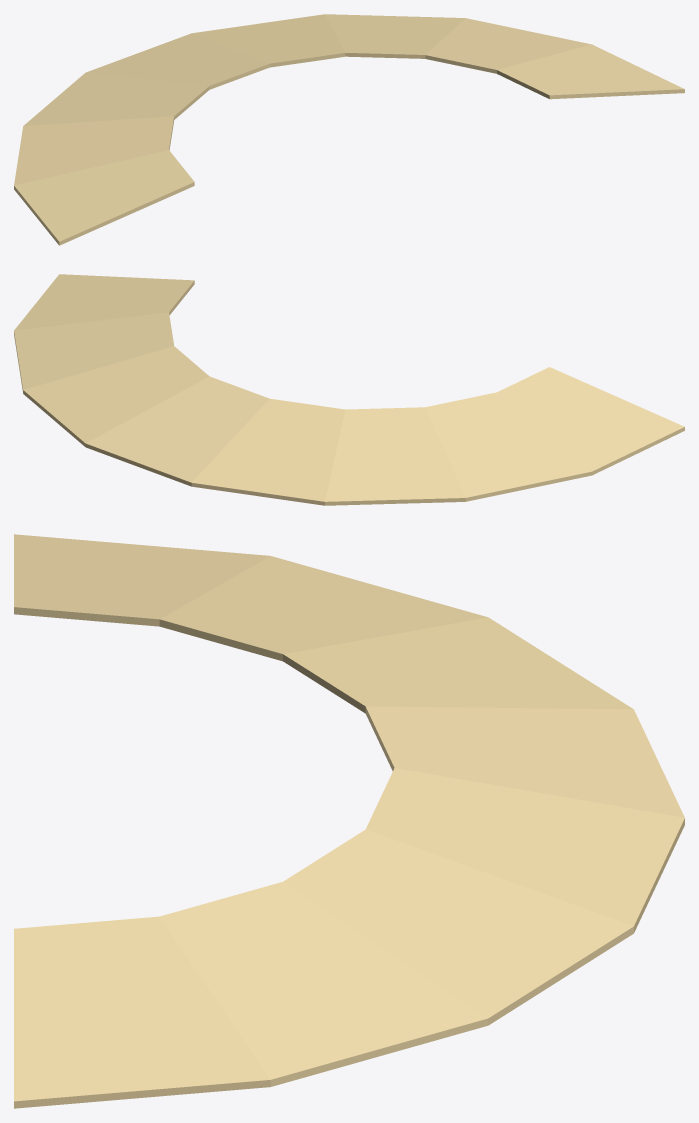
3 views of the same model, one above another, from view 1: azimuth 30°, elevation 25°; view 2: azimuth 150°, elevation 25°; view 3: azimuth 270°, elevation 25° (orthographic). The views are drawn at different scales.
Visible parts, largest first — view 1: 高岸端盖_沙坡.001; view 2: 高岸端盖_沙坡.001; view 3: 高岸端盖_沙坡.001.
Part boxes in pixels (x1,y1,x2,y2): 高岸端盖_沙坡.001: (14,14,684,245); 高岸端盖_沙坡.001: (14,274,684,505); 高岸端盖_沙坡.001: (14,534,684,1108).
Size of the model in its own units: 1.34 by 0.063 by 0.67.
